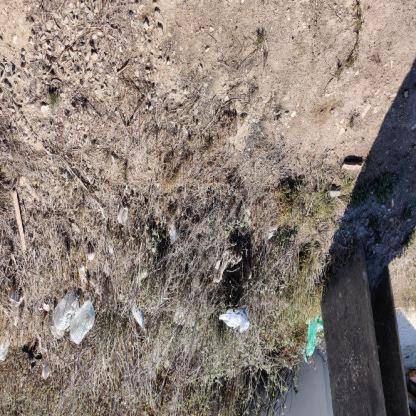Bottle cap: (68, 301, 94, 345), (54, 289, 80, 330)
Cup: (118, 202, 128, 225)
Plastic bag - wrapper: (302, 315, 323, 363), (212, 250, 242, 283), (219, 308, 250, 335), (51, 318, 65, 338), (0, 341, 11, 362), (42, 364, 50, 380), (78, 262, 85, 278)
Unlabeled litter: (128, 297, 146, 331), (22, 346, 42, 370), (168, 219, 177, 245), (138, 265, 148, 283)
